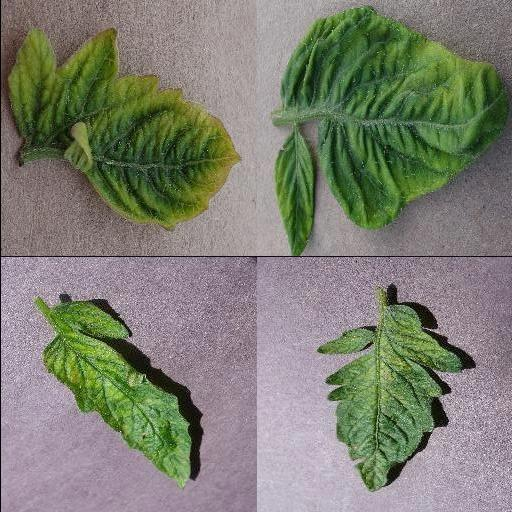Mosaic Virus: (40, 300, 192, 490), (316, 302, 466, 493)
Yellow Leaf Curl Virus: (279, 7, 509, 227), (6, 22, 242, 232), (271, 130, 315, 256)
